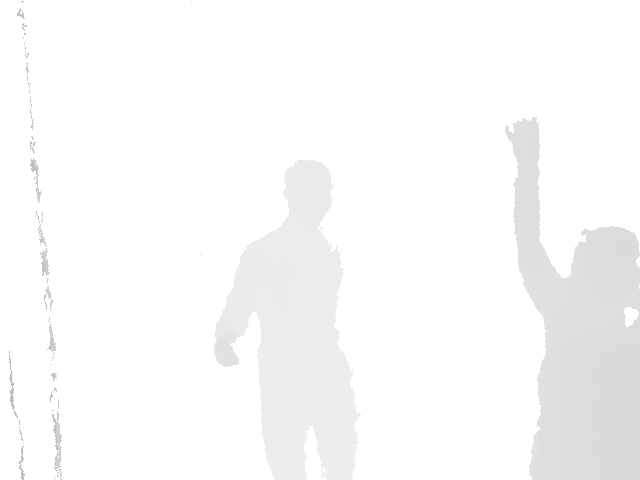hand: (504, 116, 542, 166)
head: (569, 225, 640, 300), (282, 158, 333, 227)
person: (503, 116, 640, 480), (213, 158, 362, 480)
